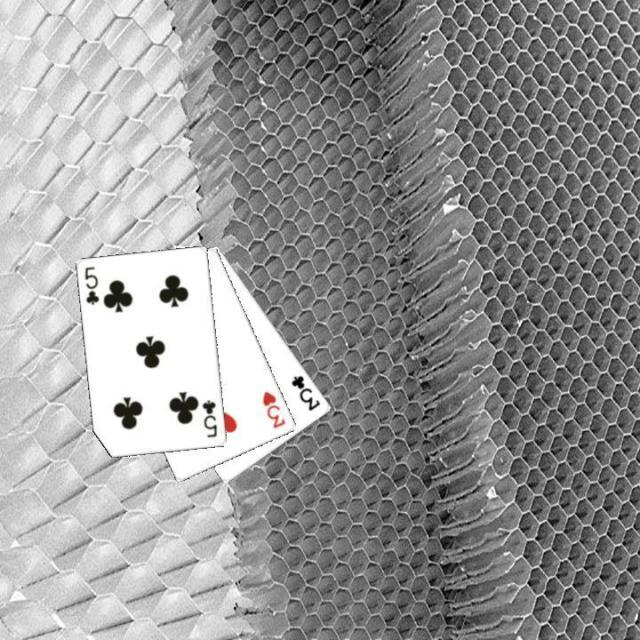3C: (288, 372, 322, 414)
3H: (259, 388, 287, 430)
5C: (198, 397, 220, 439), (81, 263, 101, 307)
